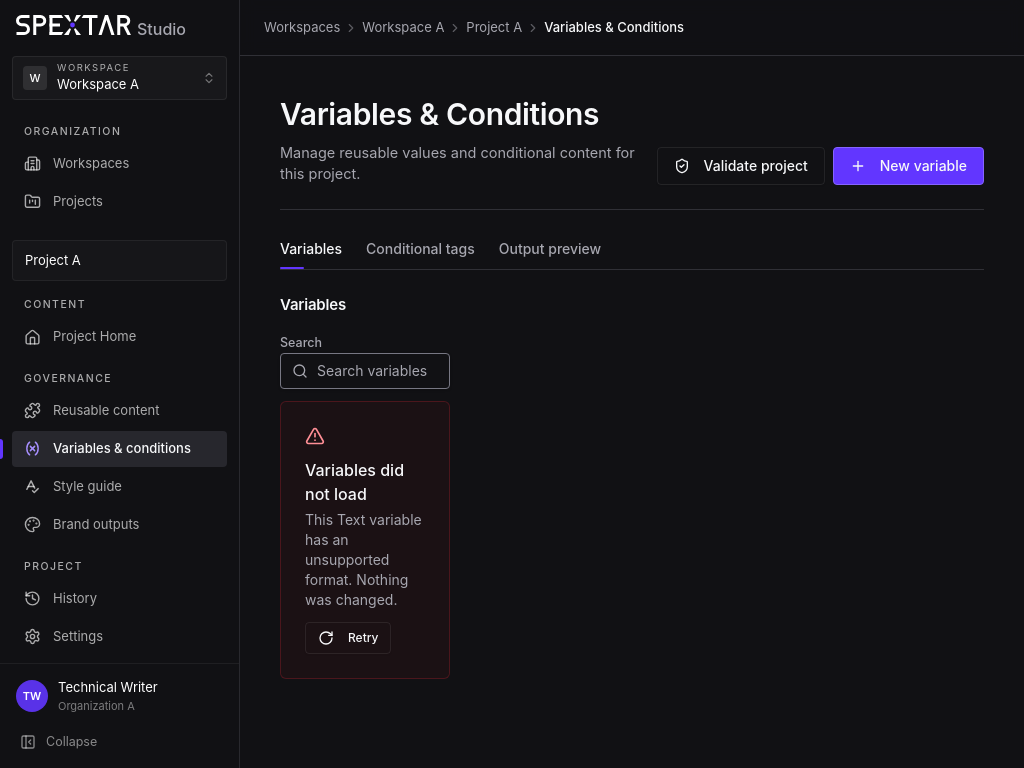
it: Variables & Conditions project route › reports backend malformed data and validation issues without fixtures or destructive normalization
Expected: the text "Variables did not load" is shown, [305, 460, 404, 504]
Click the button with test id "button-validate-project" at (741, 166), box [656, 147, 825, 185]
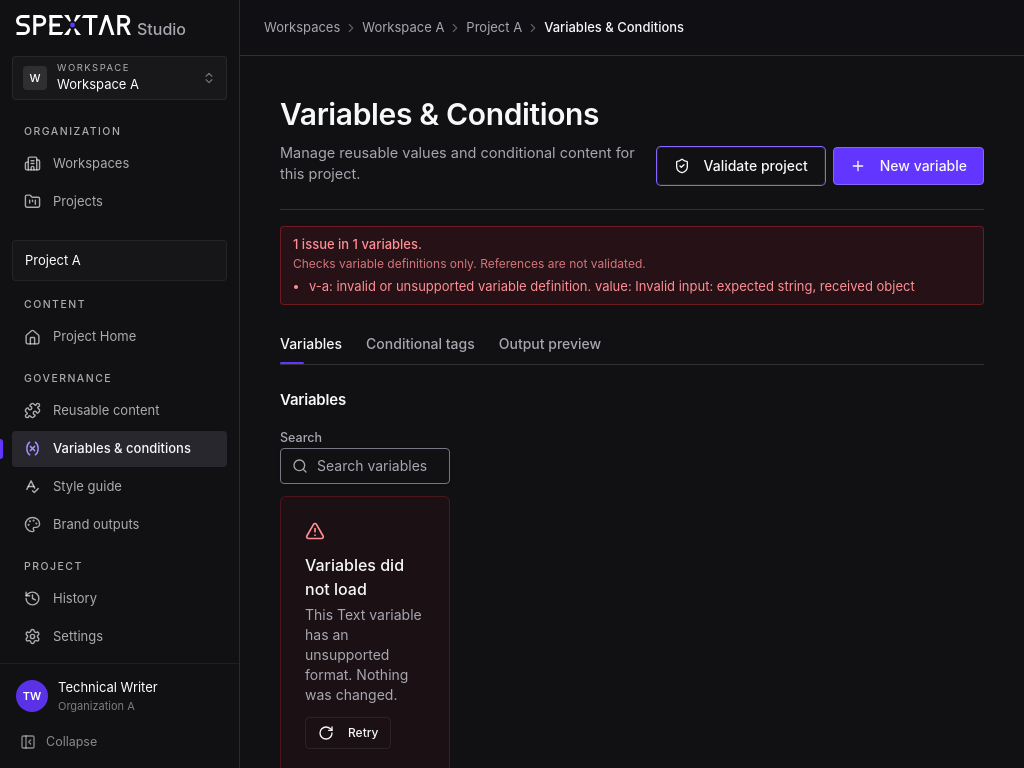
Now the message with test id "text-validation-summary" shows "1 issue", box [293, 236, 422, 252]
